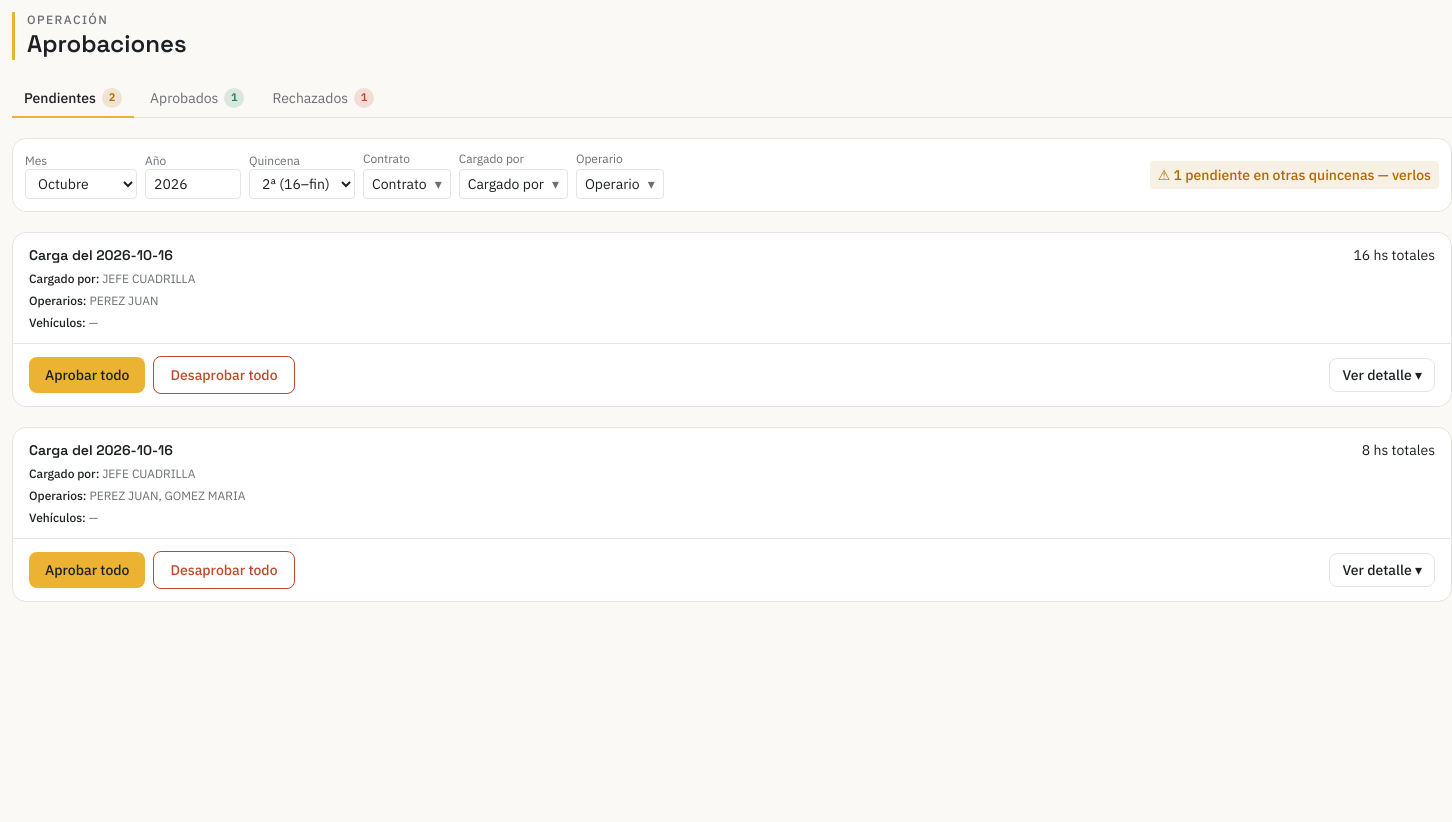
AprobacionesPage › muestra los filtros de contrato/cargador/operario (sin fecha exacta), con opciones de lo ya cargado
Click the button with aria-label "Filtrar por contrato". click: (407, 184)
box: left=363, top=169, right=451, bottom=199
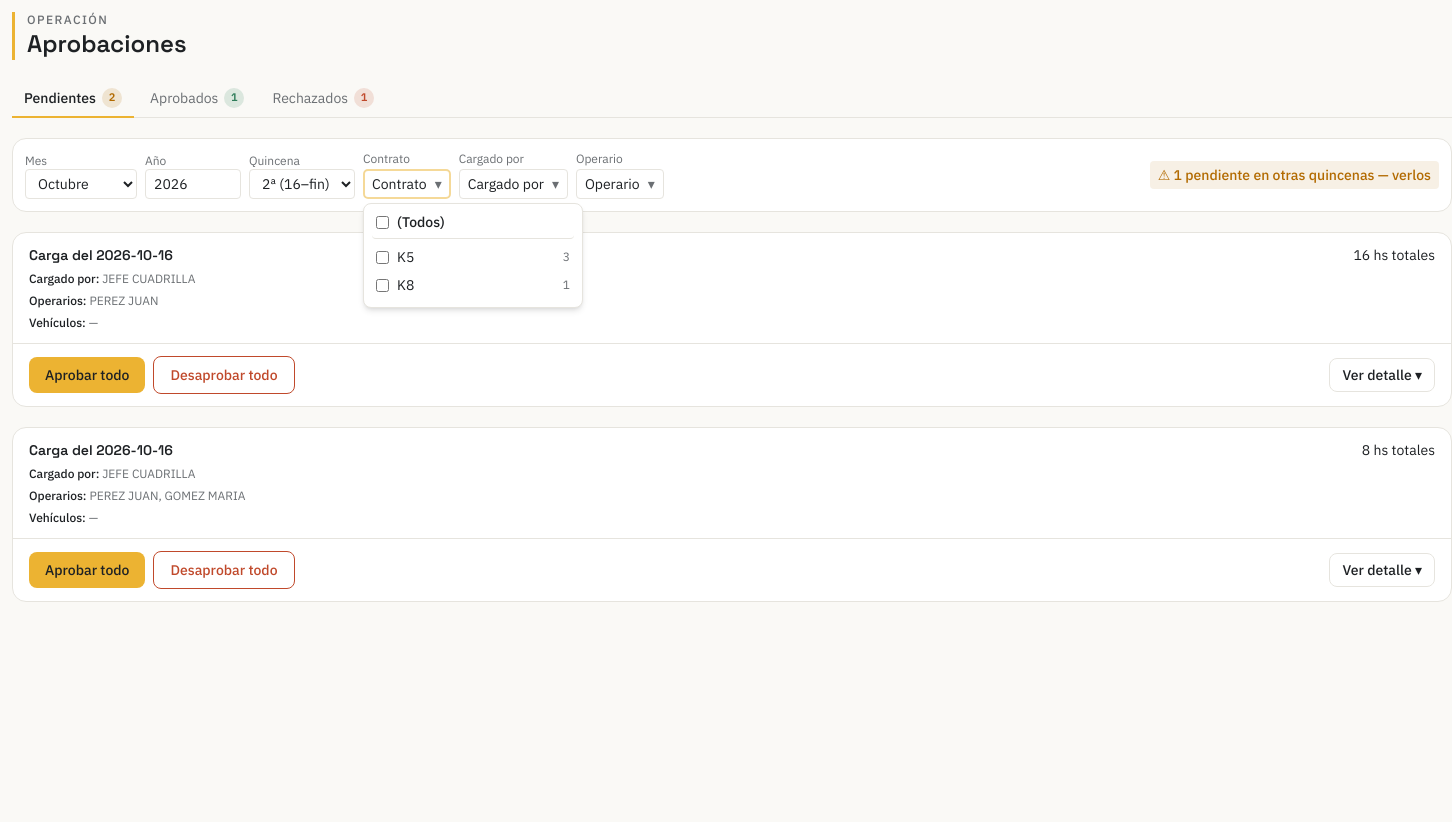
Expected: the checkbox labelled "K5" is shown, left=376, top=250, right=389, bottom=264
Expected: the checkbox labelled "K8" is shown, left=376, top=278, right=389, bottom=292
Click the button with aria-label "Filtrar por quién cargó". click: (513, 184)
box: left=459, top=169, right=568, bottom=199
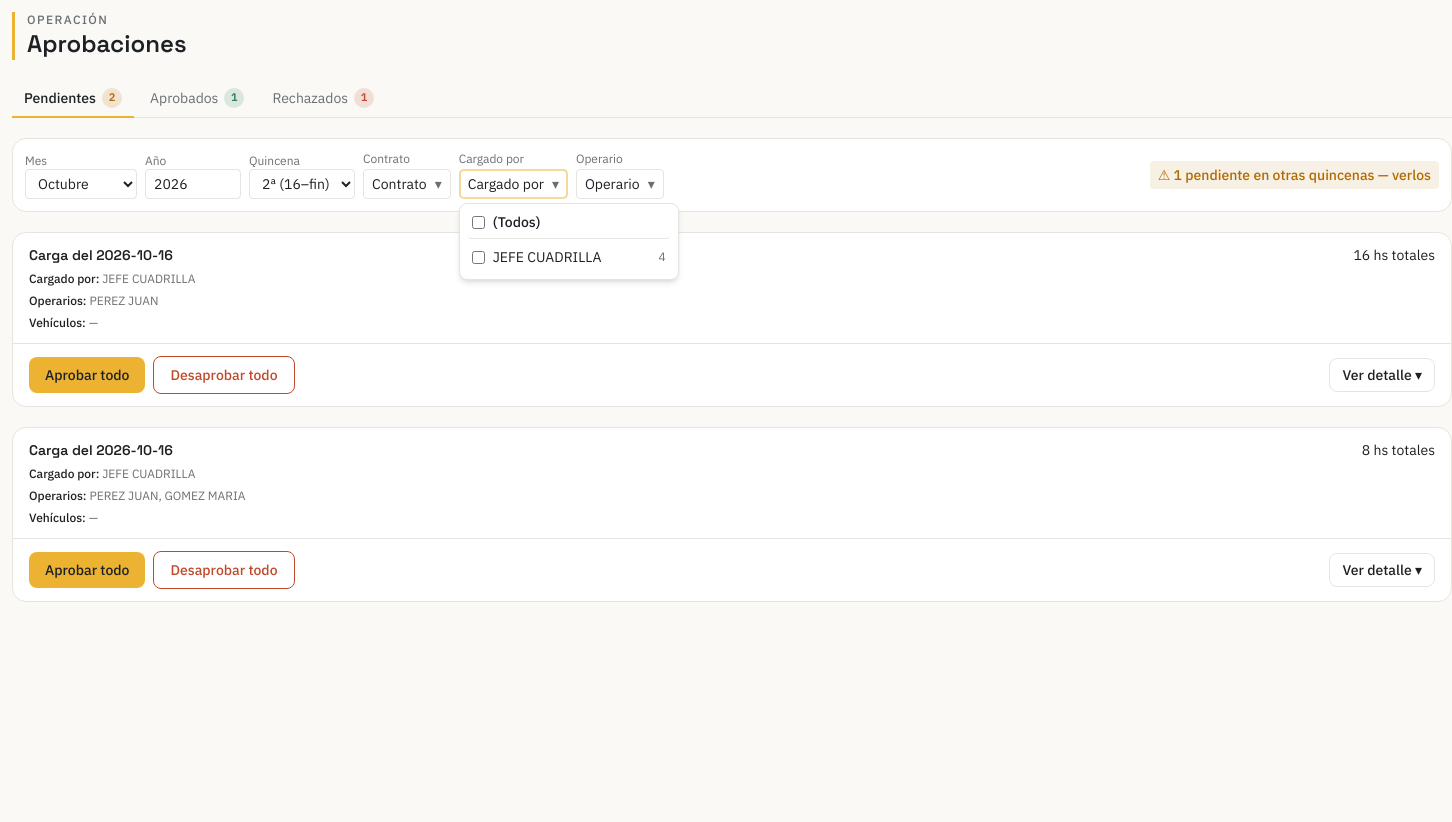
Expected: the checkbox labelled "JEFE CUADRILLA" is shown, left=472, top=250, right=485, bottom=264
